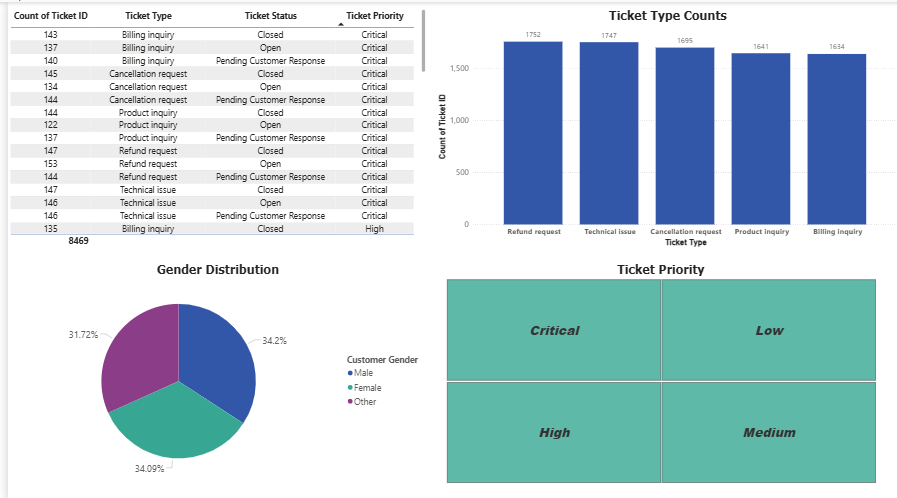

Layout of this report page (visuals, bound fields, positions):
{"tool":"powerbi","page":{"name":"Page 2","canvas":[1929,1080],"ordinal":1},"visuals":[{"type":"pieChart","title":"Gender Distribution","fields":{"Category":["customersupport.Customer Gender"],"Y":["CountNonNull(customersupport.Ticket ID)"]},"box":[0,559.4,907.2,486],"z":0},{"type":"tableEx","fields":{"Values":["CountNonNull(customersupport.Ticket ID)","customersupport.Ticket Type","customersupport.Ticket Status","customersupport.Ticket Priority"]},"box":[0,10.8,907.2,522.7],"z":2000},{"type":"slicer","title":"Ticket Priority","fields":{"Values":["customersupport.Ticket Priority"]},"box":[922.3,559.4,976.3,486],"z":4000},{"type":"clusteredColumnChart","title":"Ticket Type Counts","fields":{"Y":["CountNonNull(customersupport.Ticket ID)"],"Category":["customersupport.Ticket Type"]},"box":[922.3,10.8,1006.6,522.7],"z":5000}]}

Visuals, with their boxes in screenshot pixels (x1, y1, x2, y2), scaled from the page's 1929x1080 canvas onto the 897x498 screenshot:
"Gender Distribution" pieChart: 0, 258, 422, 482
tableEx - CountNonNull(customersupport.Ticket ID) x customersupport.Ticket Type: 0, 5, 422, 246
"Ticket Priority" slicer: 429, 258, 883, 482
"Ticket Type Counts" clusteredColumnChart: 429, 5, 896, 246
